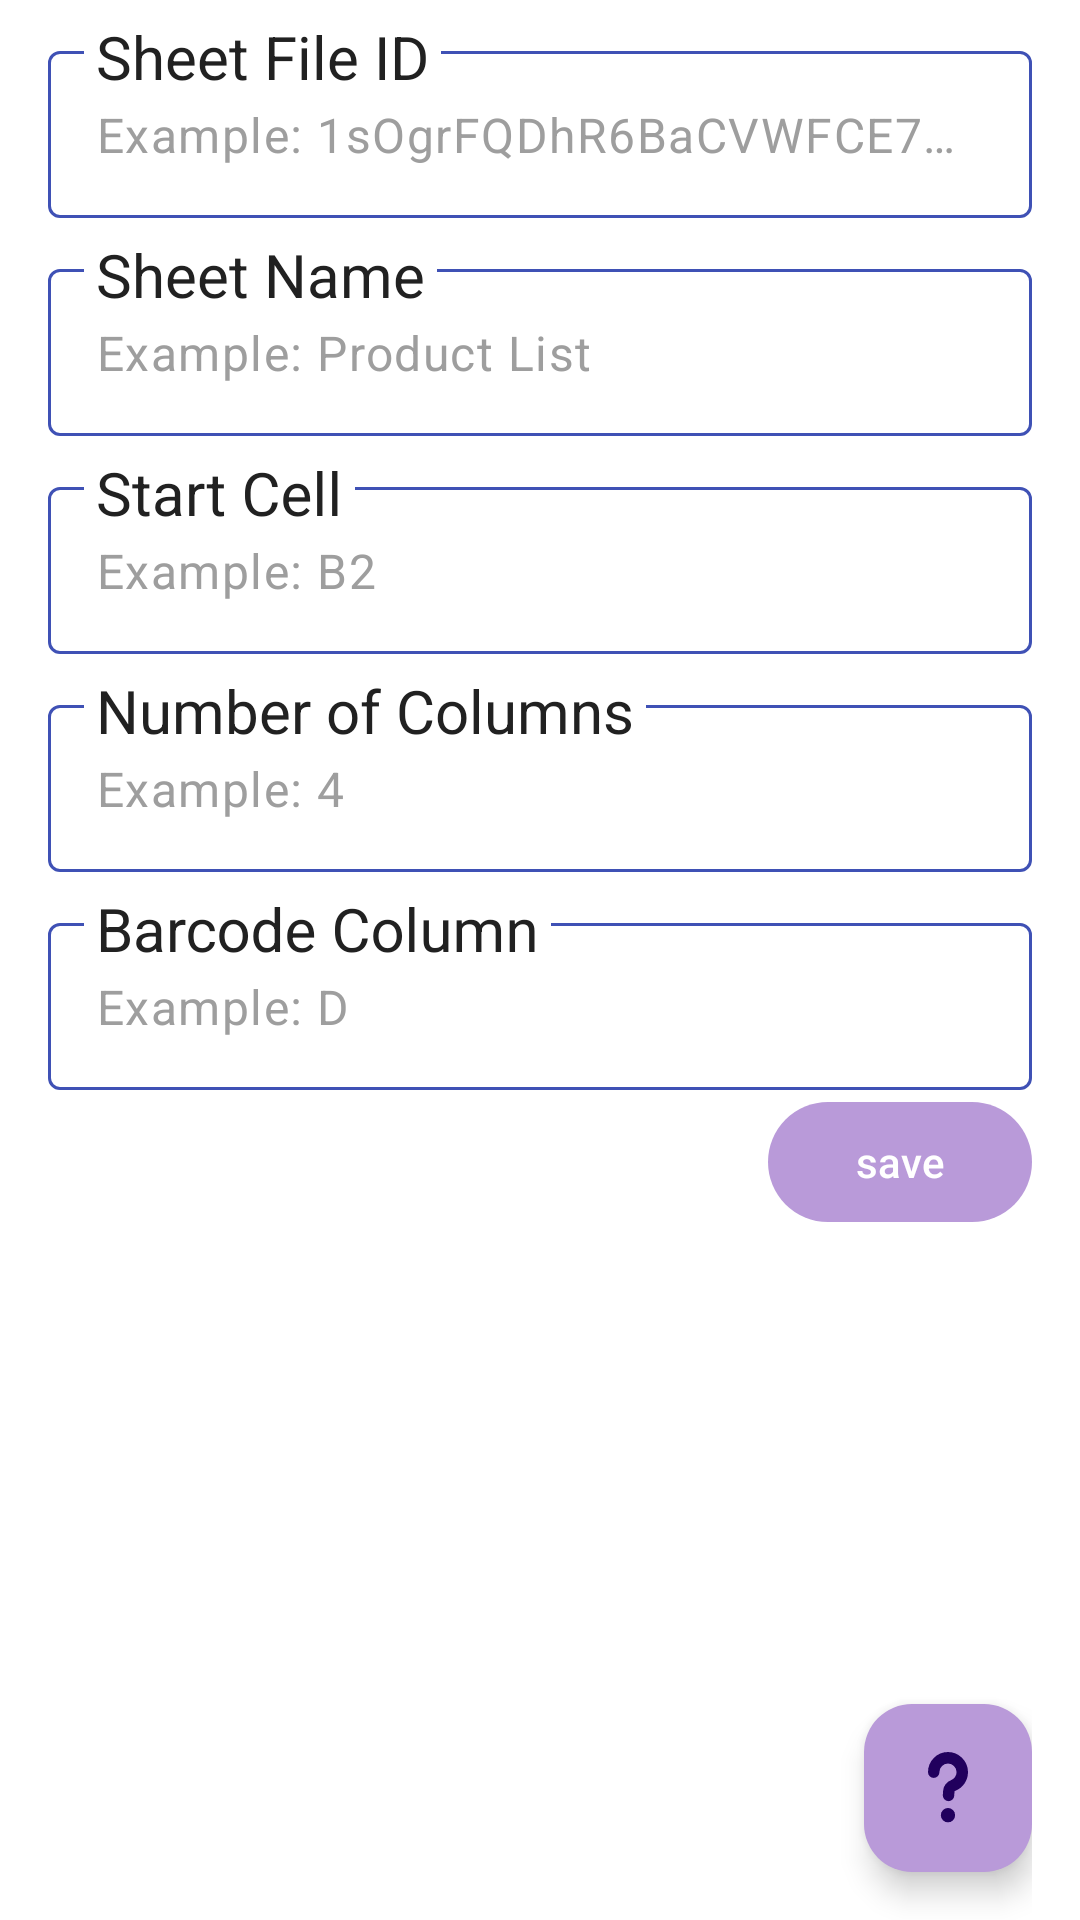

Screen size 1080×1920. Icon name, then its center in pixels as [x,y]:
go setting help page: [948,1788]
